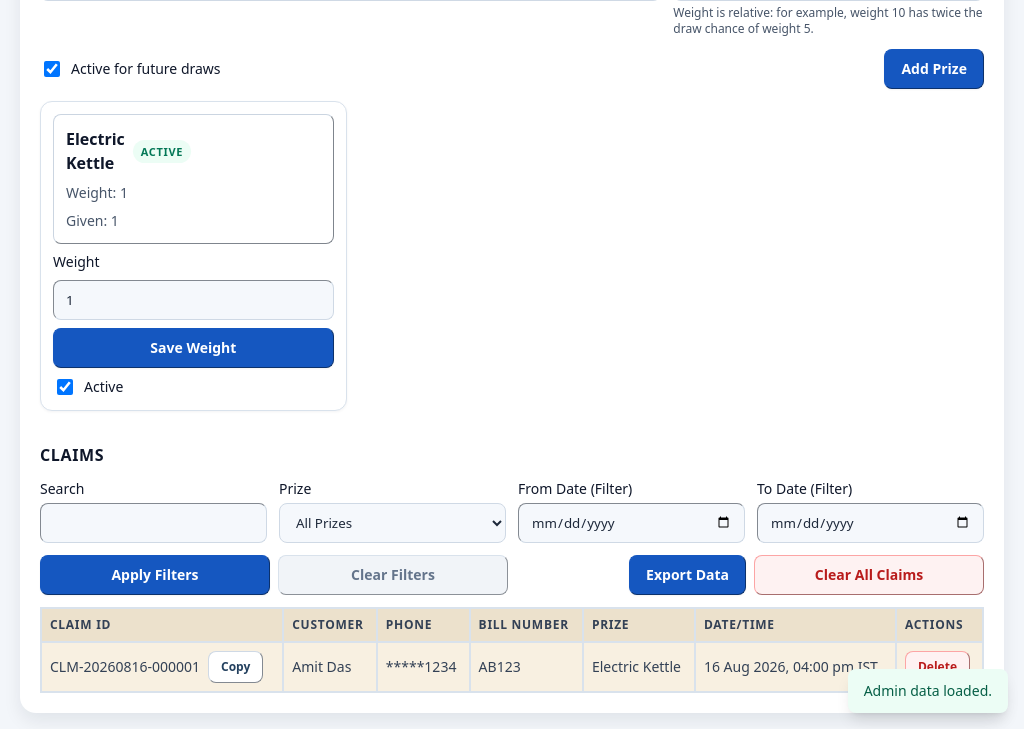
Test: admin operations page › asks for the year in a modal and exports the confirmed year
(page scrolled)
Click the button "Export Data" at (688, 575), box [629,555,746,595]
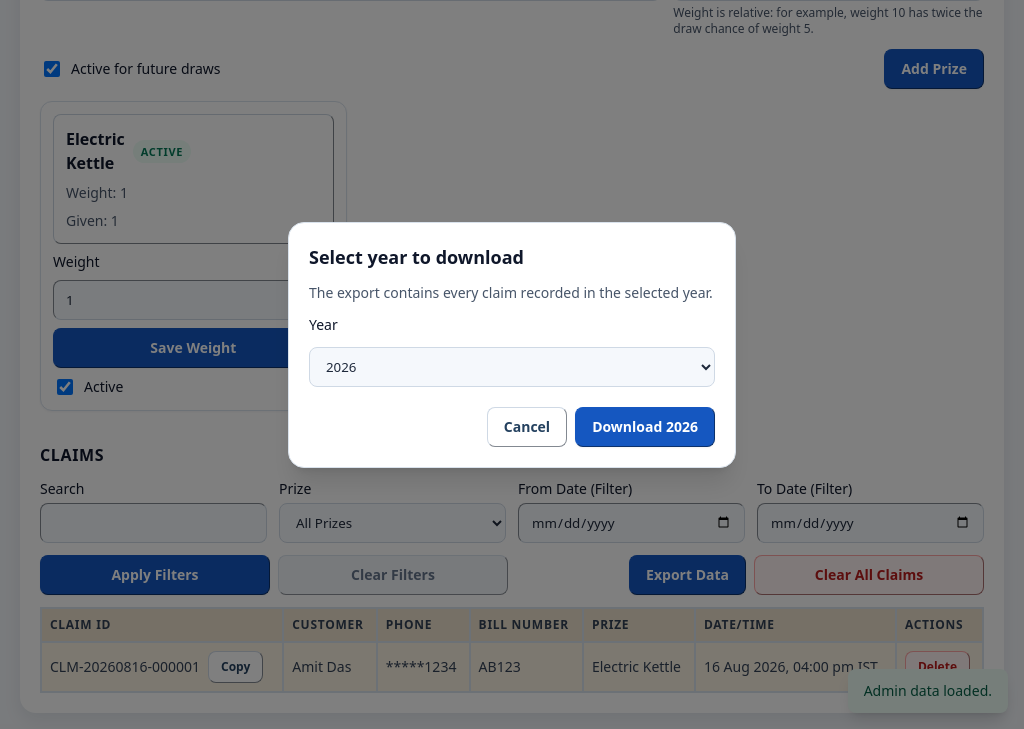
Now the heading "Select year to download" is shown, box [309,245,524,269]
Click the button "Download 2026" at (645, 427), box [575,407,715,447]
(page scrolled)
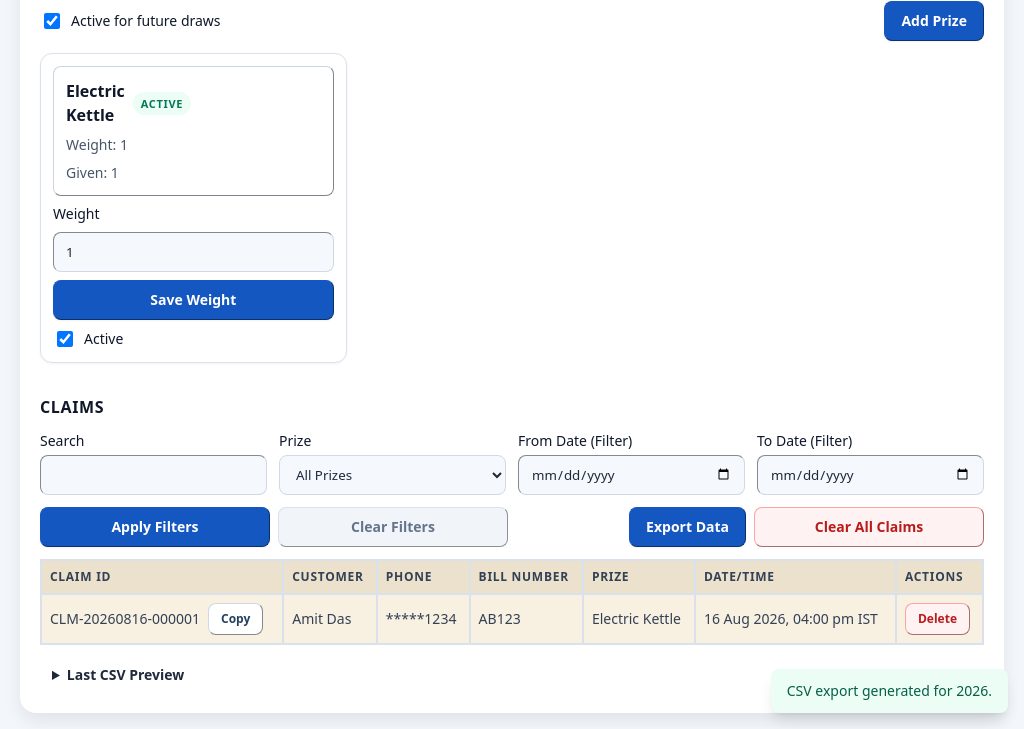
Now the heading "Last CSV Preview" is shown
Click the heading "Last CSV Preview" at (126, 674), box [40,657,984,693]
(page scrolled)
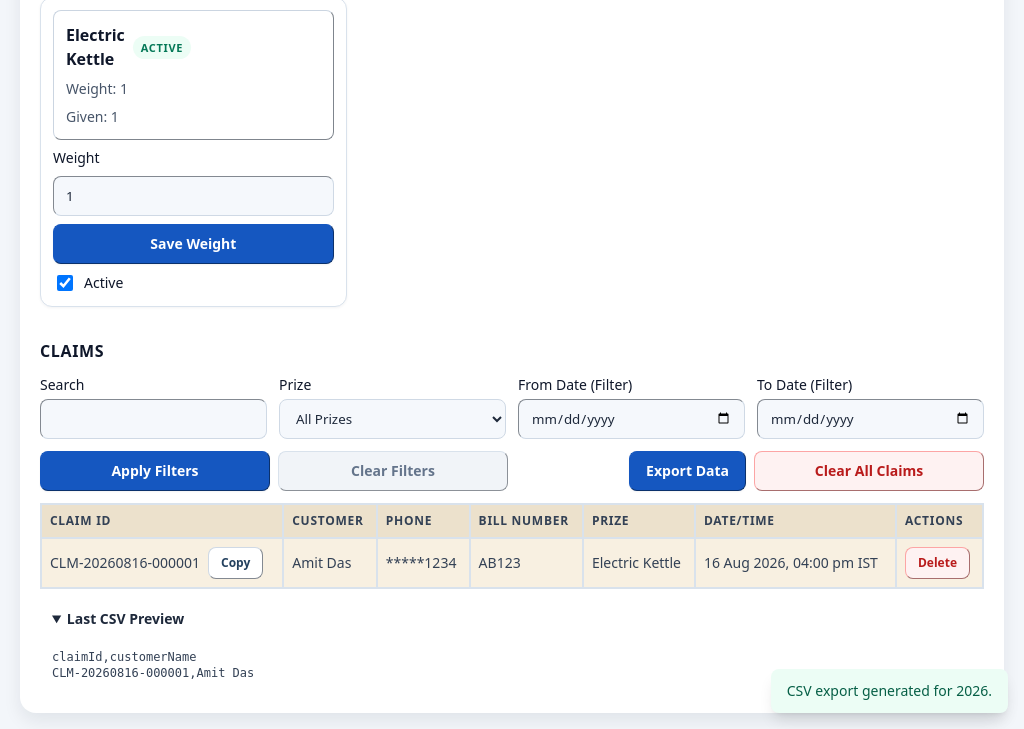
Now the text "claimId,customerName CLM-20260816-000001,Amit Das" is shown, box [40,637,984,693]
